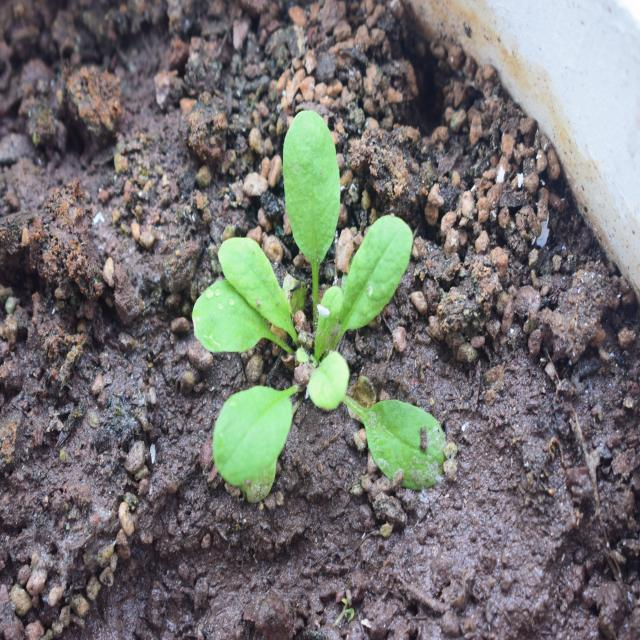Shepherd_Purse: (183, 119, 450, 504)
